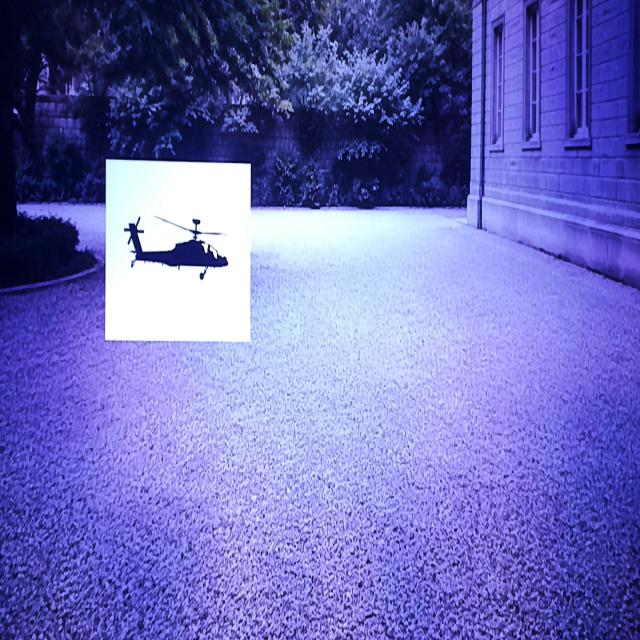Apache friendly: (124, 217, 227, 279)
